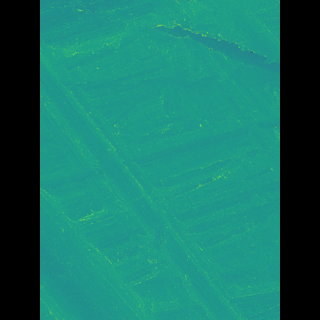Loch: (71, 22, 224, 319), (116, 3, 250, 234)
